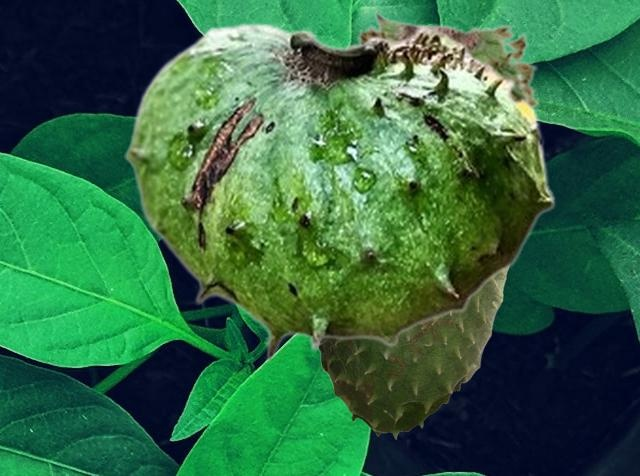guyabano: (124, 22, 555, 362), (319, 272, 507, 438), (345, 8, 540, 107)
